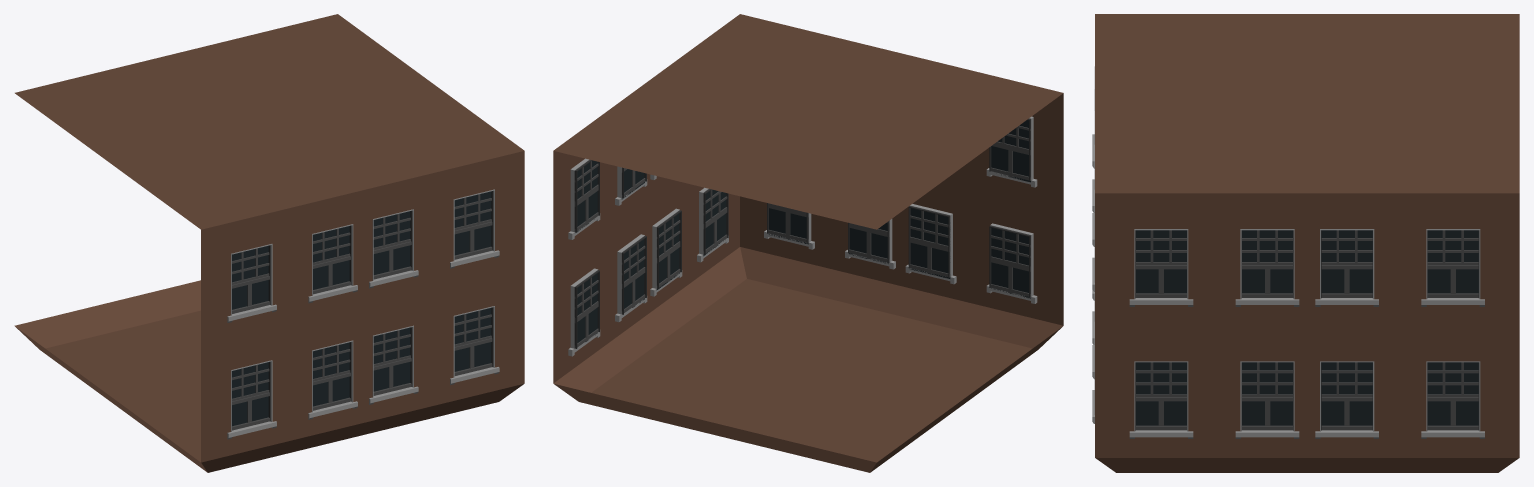
File: Building4_Corner_Top.fbx
3 views of the same model, side by side, from view 1: azimuth 30°, elevation 25°; view 2: azimuth 150°, elevation 25°; view 3: azimuth 270°, elevation 25° (orthographic). The views are drawn at different scales.
Visible parts, largest first — view 1: Cube.001; view 2: Cube.001; view 3: Cube.001.
Part boxes in pixels (box(x1,y1,x2,y2)): Cube.001: box(14, 14, 524, 472); Cube.001: box(553, 14, 1063, 472); Cube.001: box(1092, 14, 1519, 472).
Bounding box in the file's own units: 1610 × 1200 × 1610.
